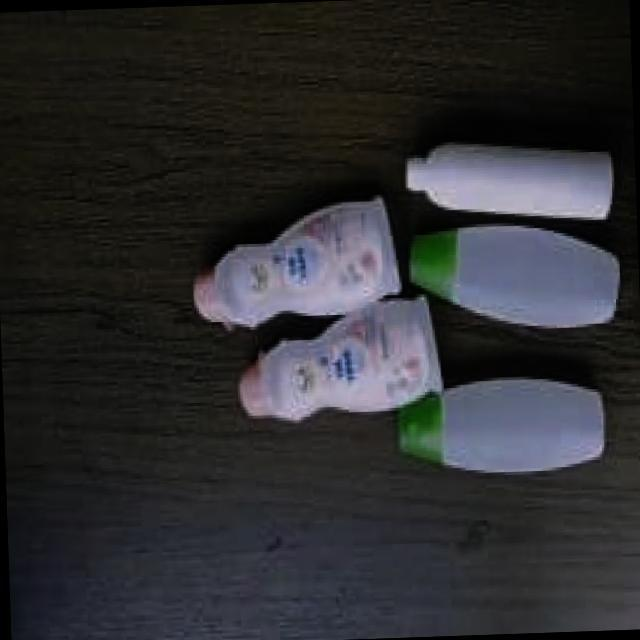HDPE Plastic: (188, 193, 408, 330), (234, 292, 447, 428), (403, 221, 625, 331), (395, 371, 613, 478), (403, 140, 618, 222)
